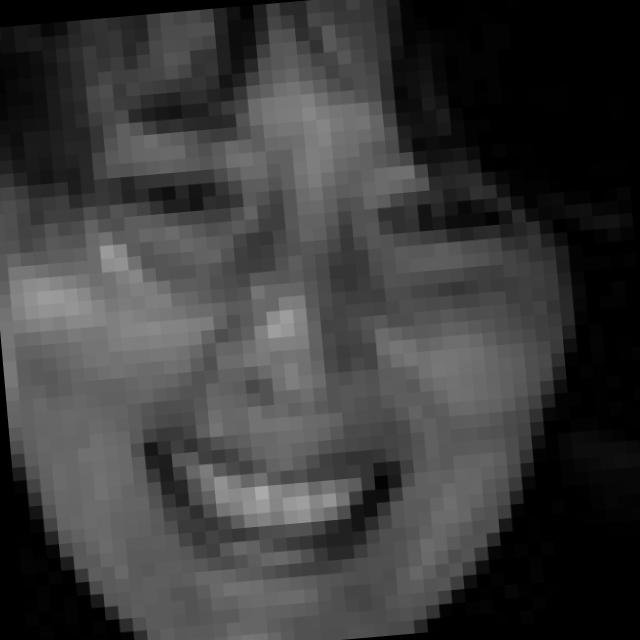happy: (62, 58, 544, 600)
